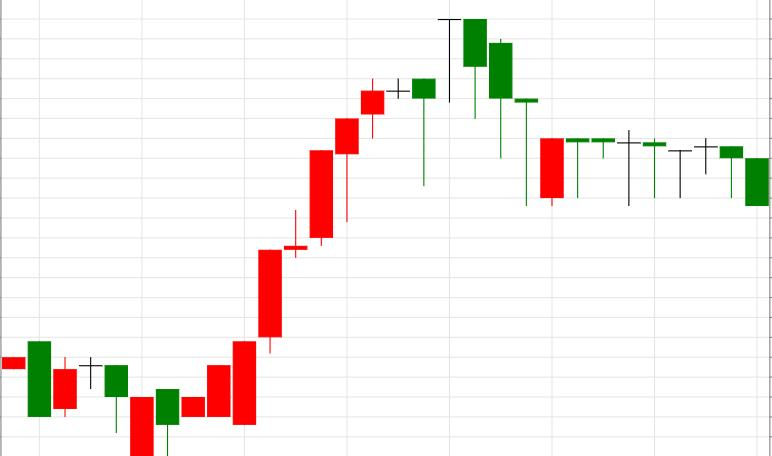hanging_man_fall: (182, 119, 359, 425)
